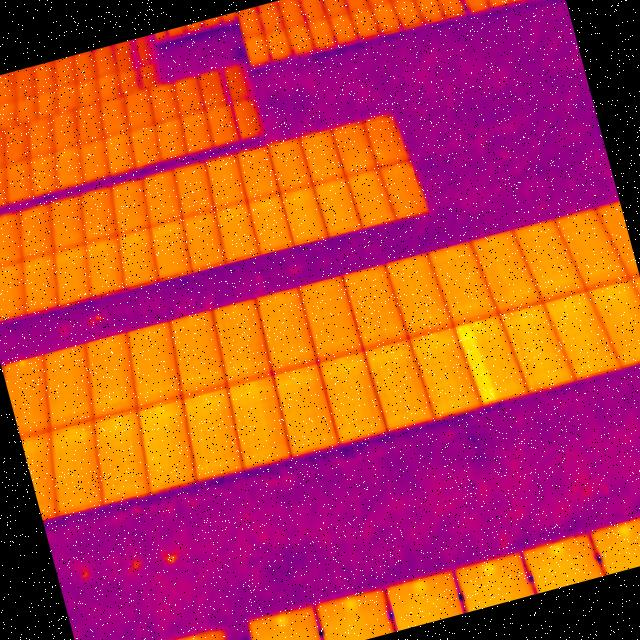Hotspot: (456, 320, 501, 408)
